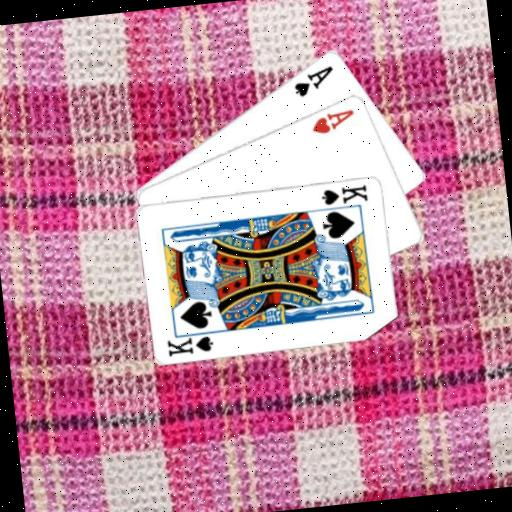AH: (308, 106, 358, 136)
AS: (289, 62, 337, 99)
KS: (164, 327, 220, 358), (318, 181, 371, 208)
